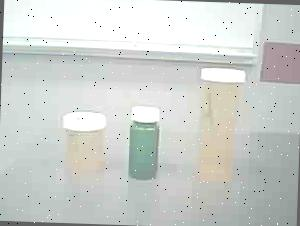Bottle A: (195, 64, 248, 188)
Bottle B: (60, 107, 109, 175)
Bottle C: (122, 103, 166, 188)
